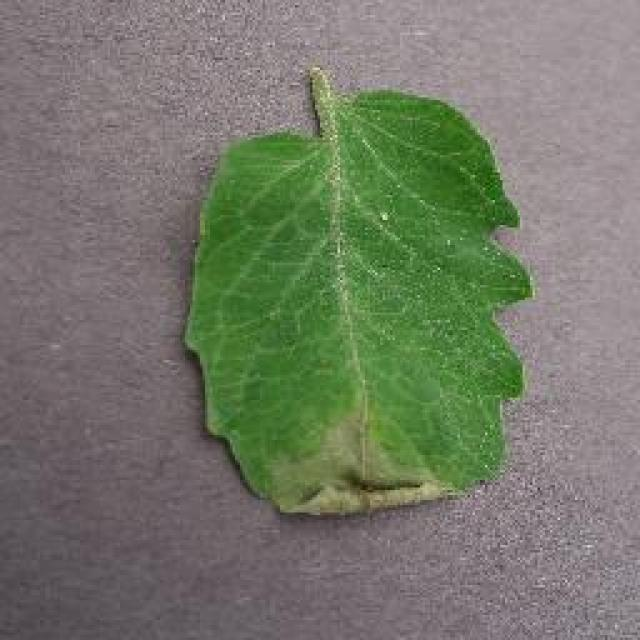Tomato late blight leaf: (194, 80, 531, 518)
